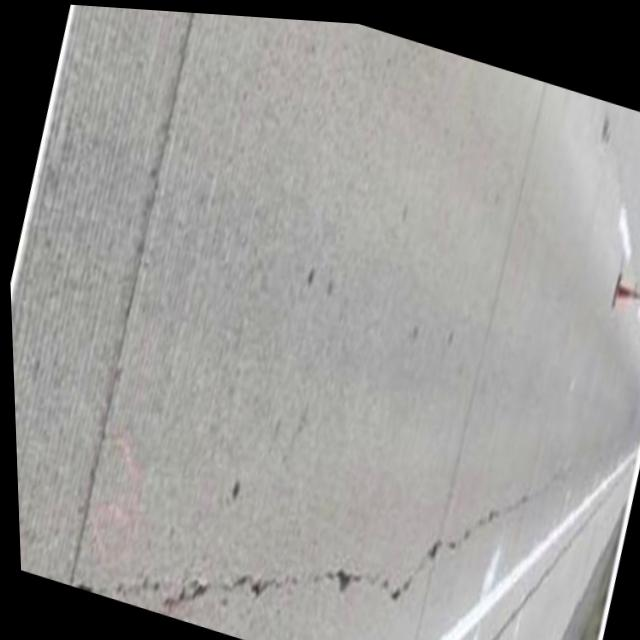Crack: (334, 425, 554, 640), (89, 486, 328, 640)
